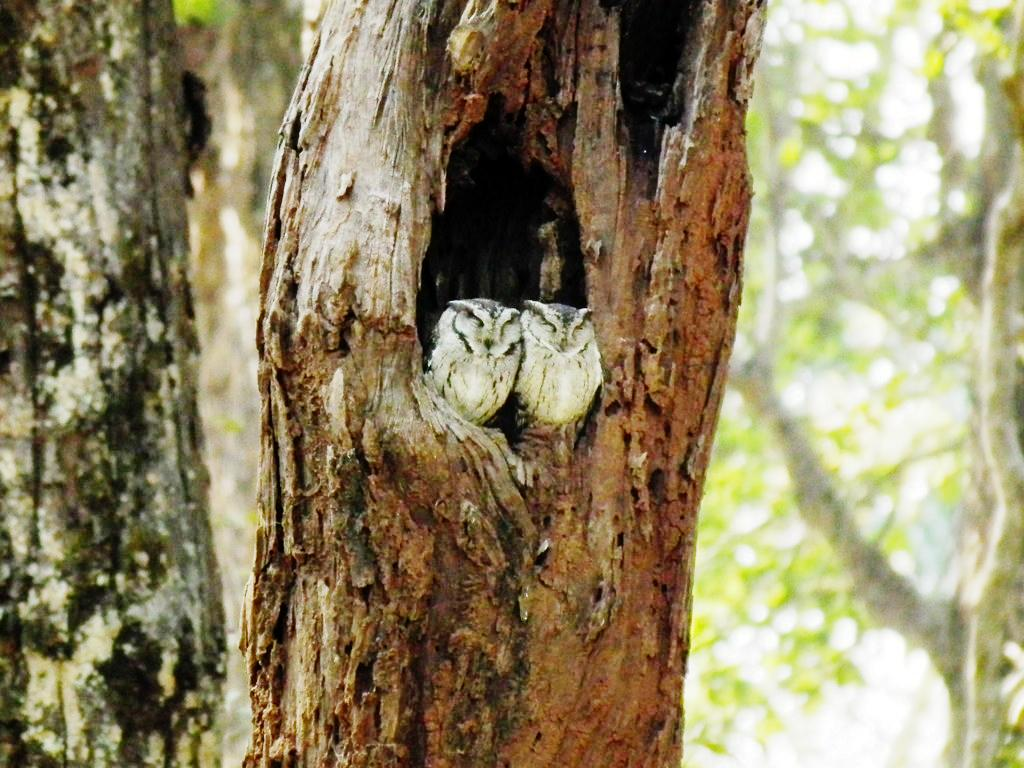Owl: (423, 295, 520, 430), (514, 300, 609, 429)
